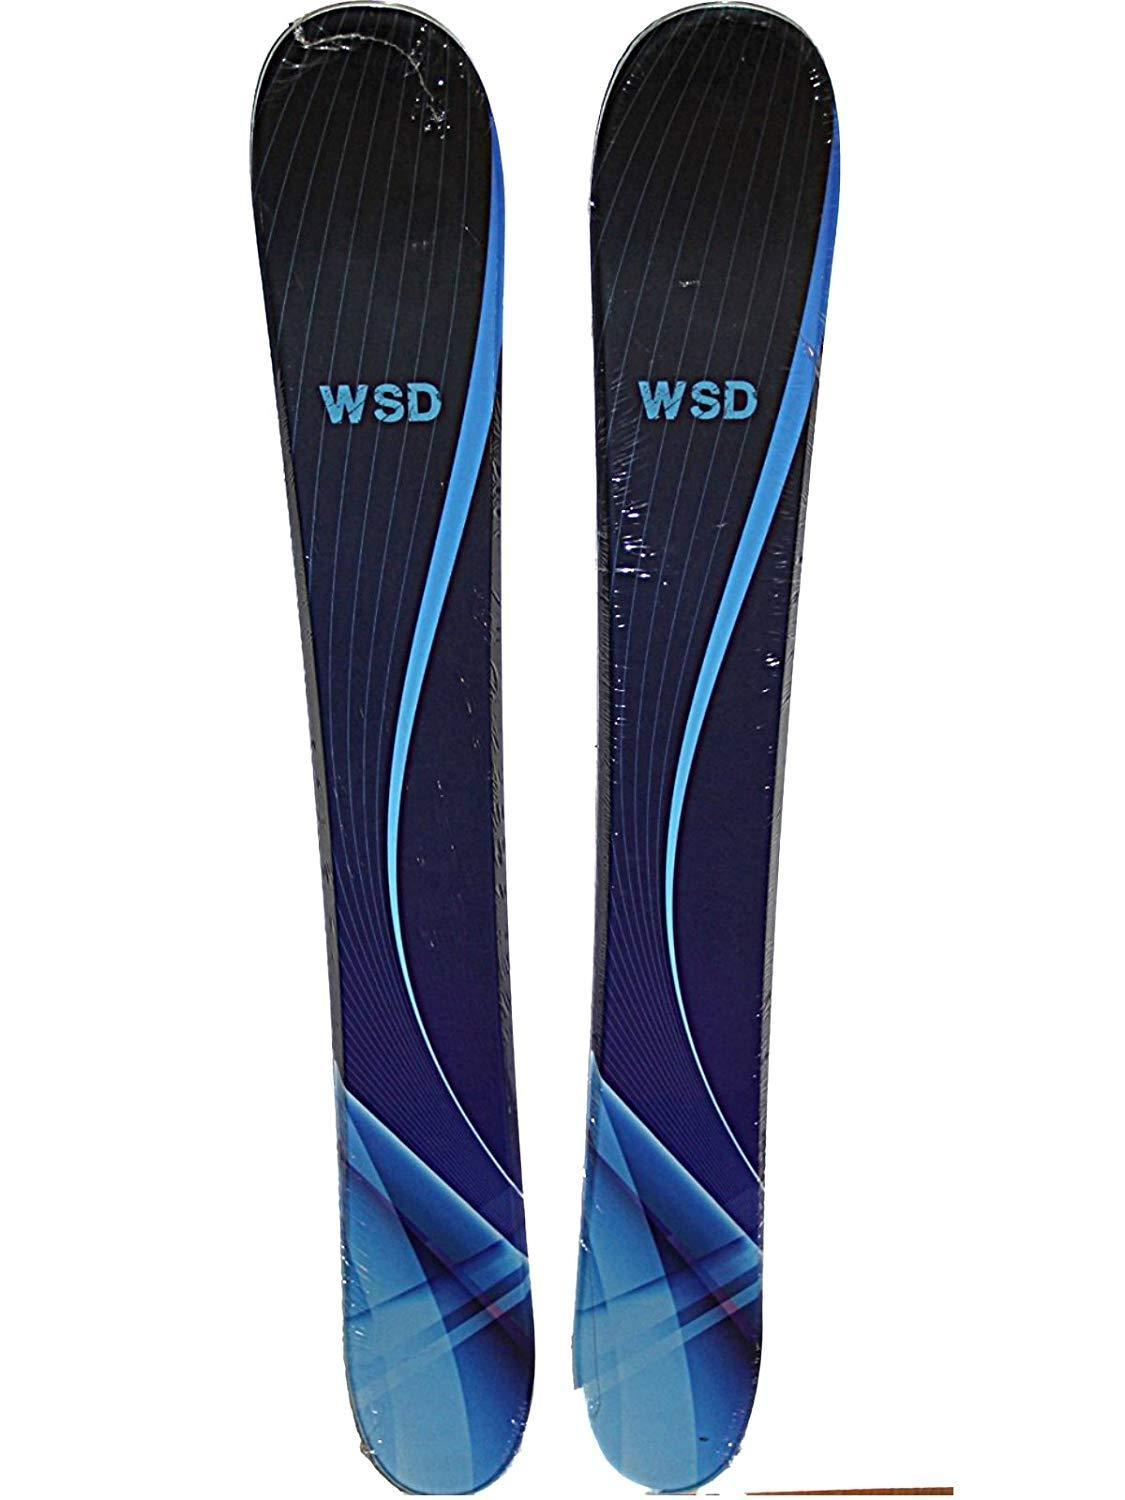Skis: (206, 0, 872, 1500)
